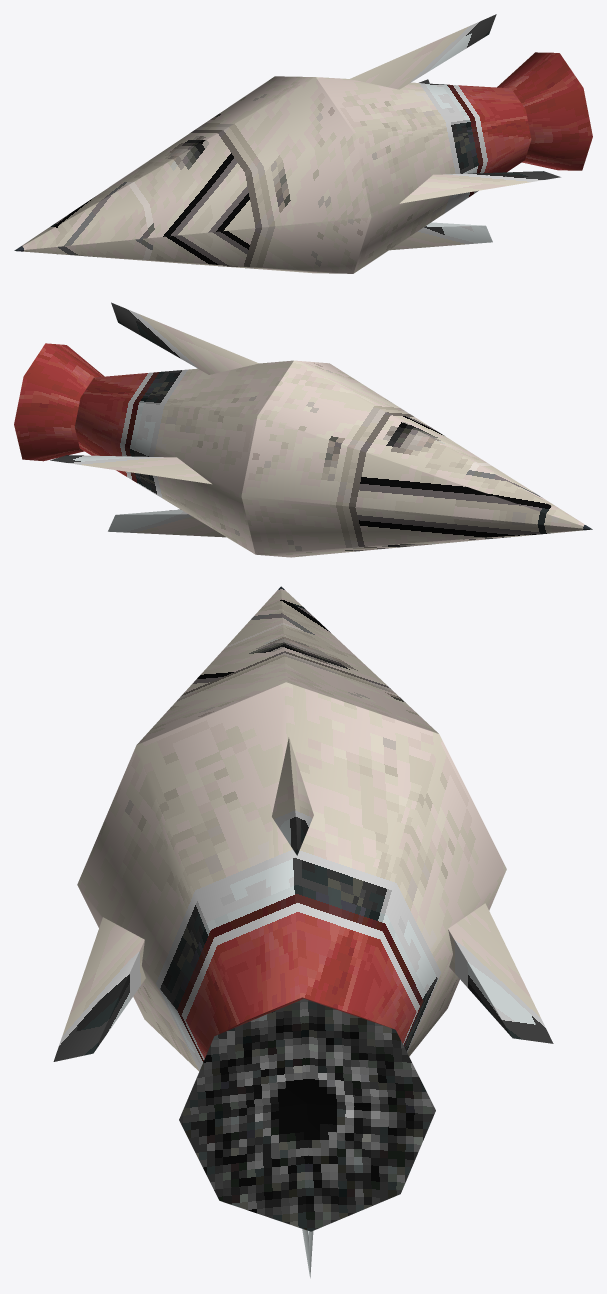
The model's file is rocket.glb.
3 renders of one model, top to bottom at view 1: azimuth 30°, elevation 25°; view 2: azimuth 150°, elevation 25°; view 3: azimuth 270°, elevation 25°, orthographic. The views are drawn at different scales.
Parts seen in each view (by area): view 1: valve/models/rpgrocket.mdl; view 2: valve/models/rpgrocket.mdl; view 3: valve/models/rpgrocket.mdl.
Boxes of the visible parts, x1,y1,x2,y2 form: valve/models/rpgrocket.mdl: (14, 14, 592, 273); valve/models/rpgrocket.mdl: (14, 302, 592, 557); valve/models/rpgrocket.mdl: (53, 586, 553, 1278).
Size of the model in its own units: 14.24 by 5.68 by 5.68.
Materials: 2 (2 with a texture image).
